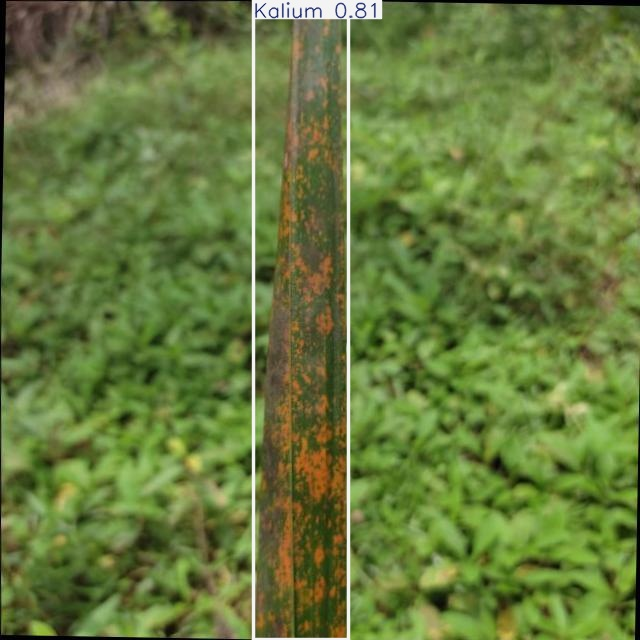Kalium: (254, 1, 349, 640)
